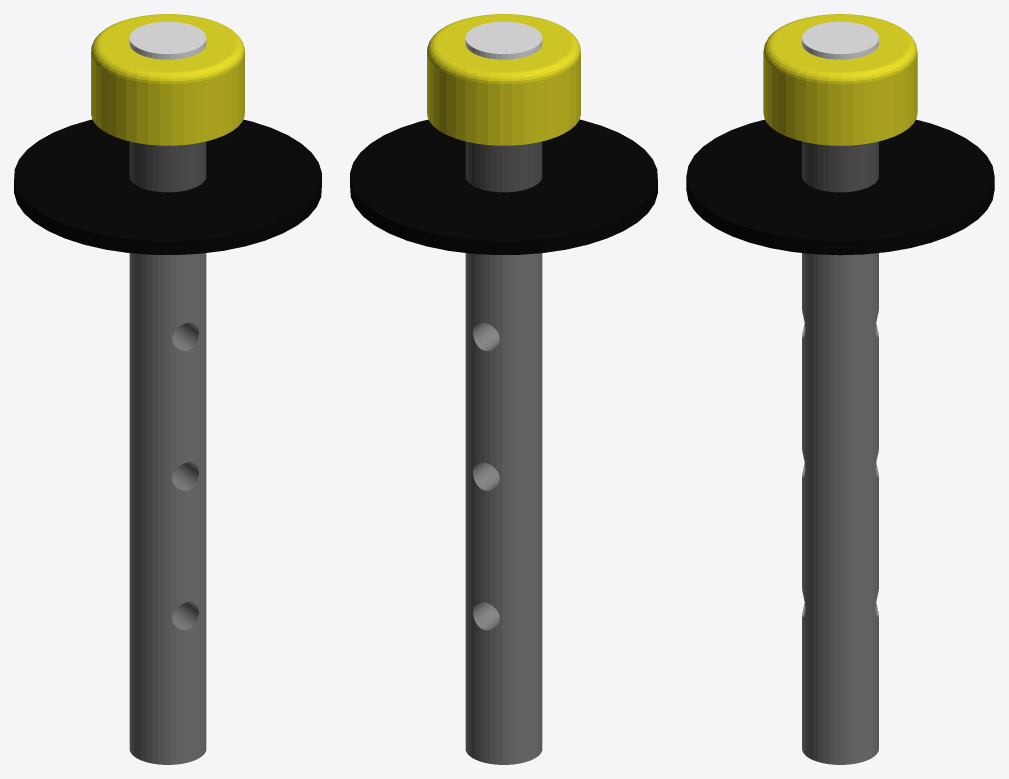
The model's file is xyma3.glb.
3 renders of one model, left to right at view 1: azimuth 30°, elevation 25°; view 2: azimuth 150°, elevation 25°; view 3: azimuth 270°, elevation 25°, orthographic.
Visible parts, largest first — view 1: measurement, blackdisk, xymalogo, cylinderbtw, whitetop; view 2: measurement, blackdisk, xymalogo, cylinderbtw, whitetop; view 3: measurement, blackdisk, xymalogo, cylinderbtw, whitetop.
Boxes of the visible parts, x1,y1,x2,y2 form: measurement: (129, 253, 206, 764); blackdisk: (14, 119, 321, 254); xymalogo: (91, 14, 244, 145); cylinderbtw: (129, 141, 206, 192); whitetop: (129, 21, 206, 59); measurement: (465, 253, 542, 764); blackdisk: (350, 119, 657, 254); xymalogo: (427, 14, 580, 145); cylinderbtw: (465, 141, 542, 192); whitetop: (465, 21, 542, 59); measurement: (802, 253, 878, 764); blackdisk: (686, 119, 994, 255); xymalogo: (763, 14, 917, 145); cylinderbtw: (802, 141, 878, 192); whitetop: (802, 21, 878, 59).
Bounding box in the file's own units: 1 × 2.54 × 1.
